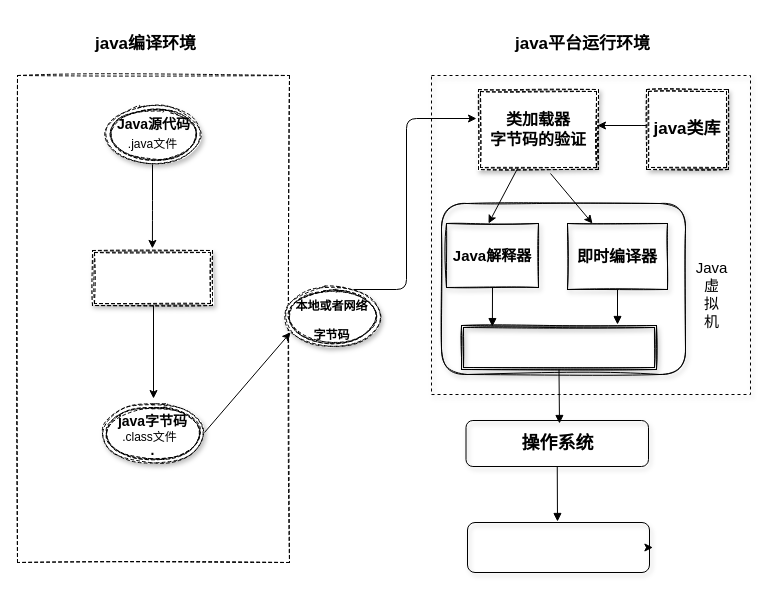
Some shapes in this 774 by 597 pixel diagram are drawn without their labels. The centre of each missing label's shape, as x and y in pixels:
java编译器: point (153, 279)
硬件: point (559, 549)
运行时系统: point (559, 348)
